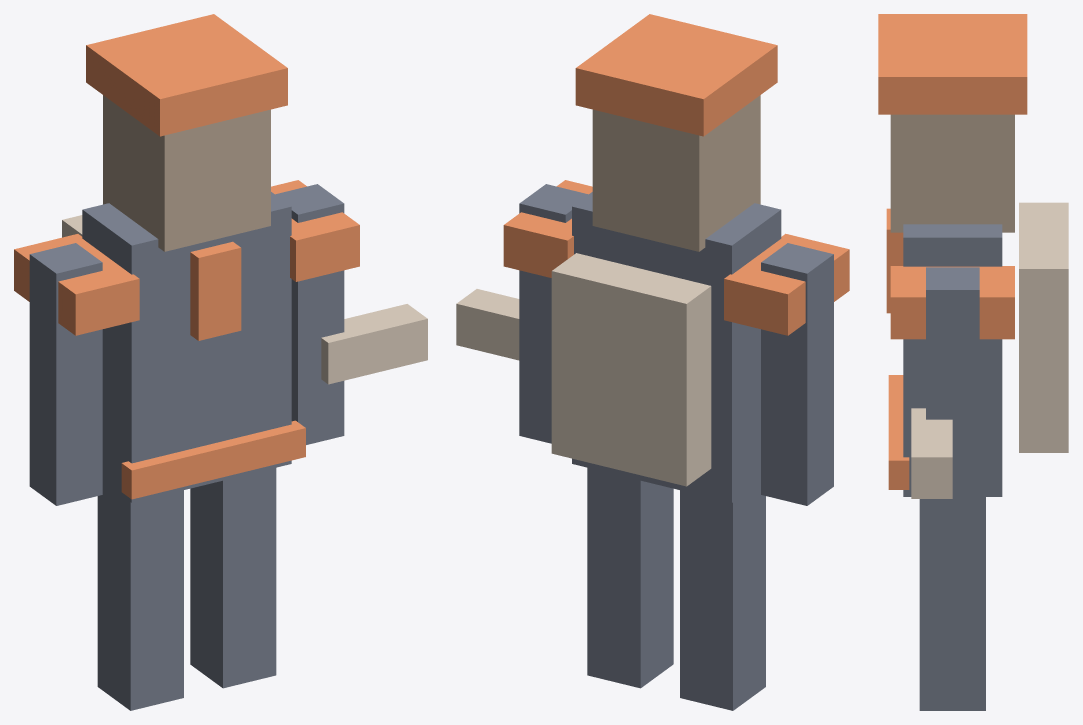
The model's file is 12_yara_nullborne_tactician_under_cargo.glb.
3 renders of one model, left to right at view 1: azimuth 30°, elevation 25°; view 2: azimuth 150°, elevation 25°; view 3: azimuth 270°, elevation 25°, orthographic.
Visible parts, largest first — view 1: Yara Nullborne, Tactician under Cargo; view 2: Yara Nullborne, Tactician under Cargo; view 3: Yara Nullborne, Tactician under Cargo.
Part boxes in pixels (<box>): Yara Nullborne, Tactician under Cargo: <box>14,14,427,710</box>; Yara Nullborne, Tactician under Cargo: <box>456,14,849,710</box>; Yara Nullborne, Tactician under Cargo: <box>878,14,1068,710</box>.
Size of the model in its own units: 1.02 by 1.67 by 0.4574.
